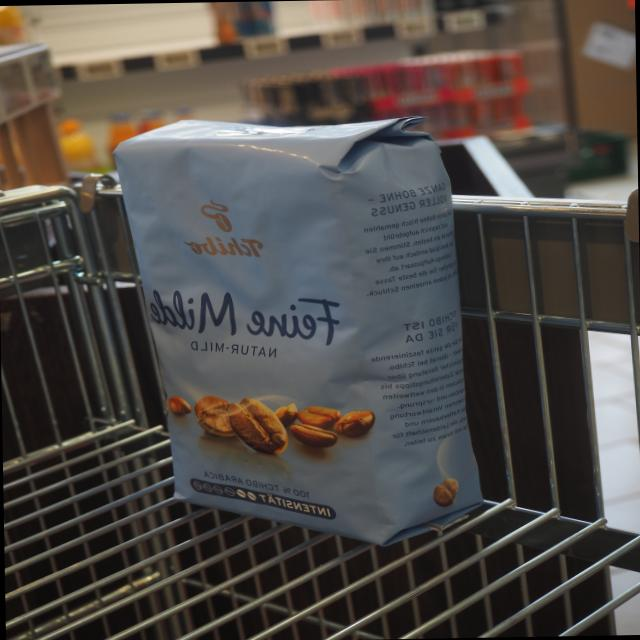FM Bohne: (104, 108, 488, 555)
